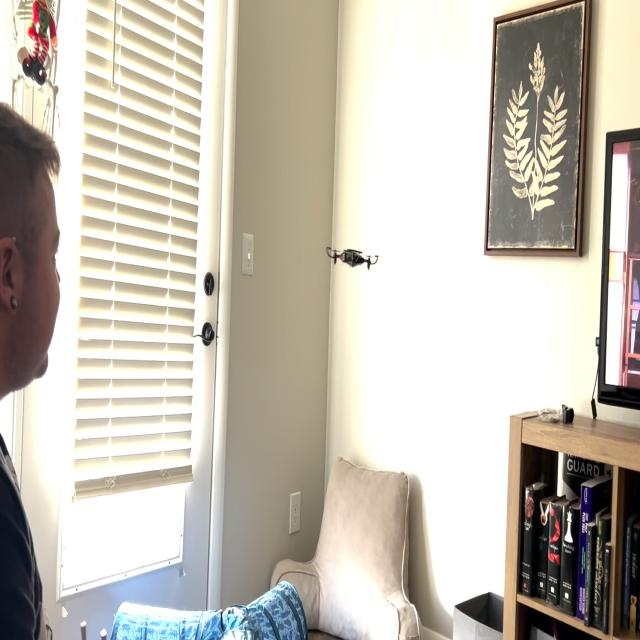drone: (319, 222, 383, 290)
